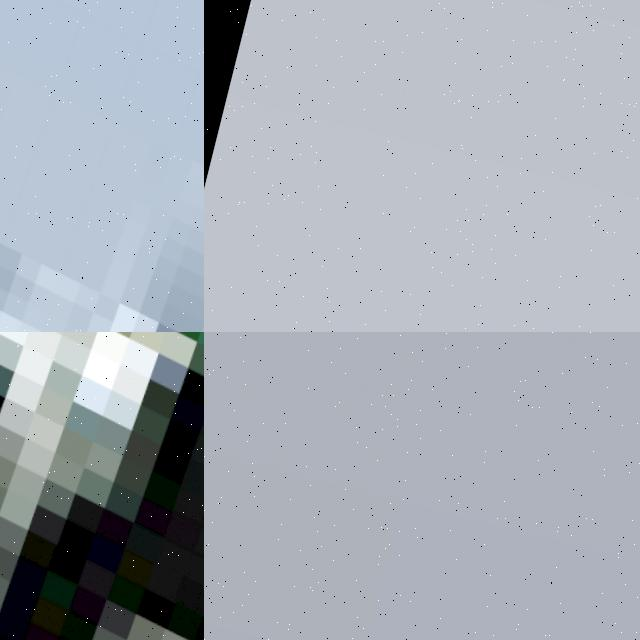0: (0, 0, 204, 332)
drone: (0, 332, 204, 640)
